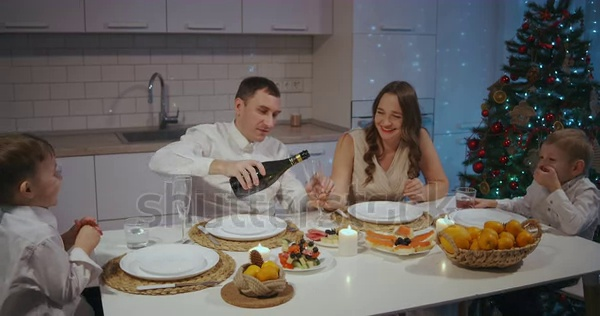No Mask: (2, 132, 68, 208), (232, 75, 287, 143), (535, 130, 590, 182), (372, 83, 416, 141)
